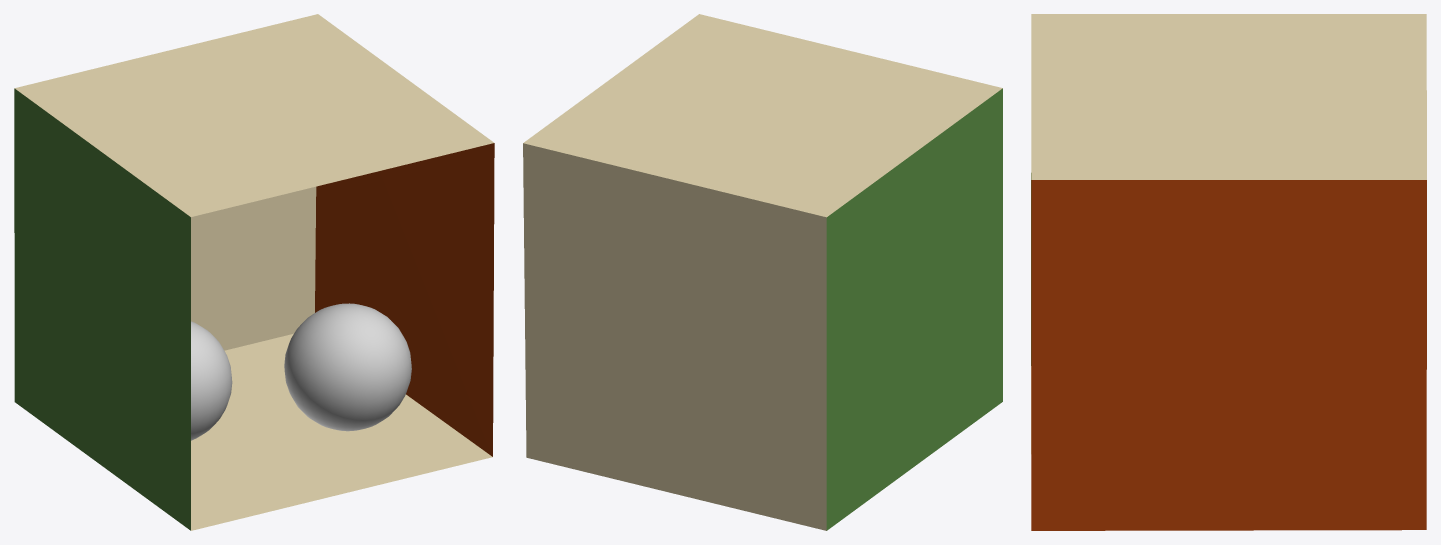
File: cornellbox_spheres_point_light.glb
3 renders of one model, left to right at view 1: azimuth 30°, elevation 25°; view 2: azimuth 150°, elevation 25°; view 3: azimuth 270°, elevation 25°, orthographic. The views are drawn at different scales.
Visible parts, largest first — view 1: CornellBox_Empty, Sphere_R, Sphere_L; view 2: CornellBox_Empty; view 3: CornellBox_Empty.
Boxes of the visible parts, left/top/right/bottom form: CornellBox_Empty: left=14, top=14, right=494, bottom=530; Sphere_R: left=284, top=303, right=411, bottom=431; Sphere_L: left=191, top=321, right=232, bottom=440; CornellBox_Empty: left=523, top=14, right=1002, bottom=530; CornellBox_Empty: left=1031, top=14, right=1426, bottom=530.
Size of the model in its own units: 0.7808 by 0.7709 by 0.7855.
